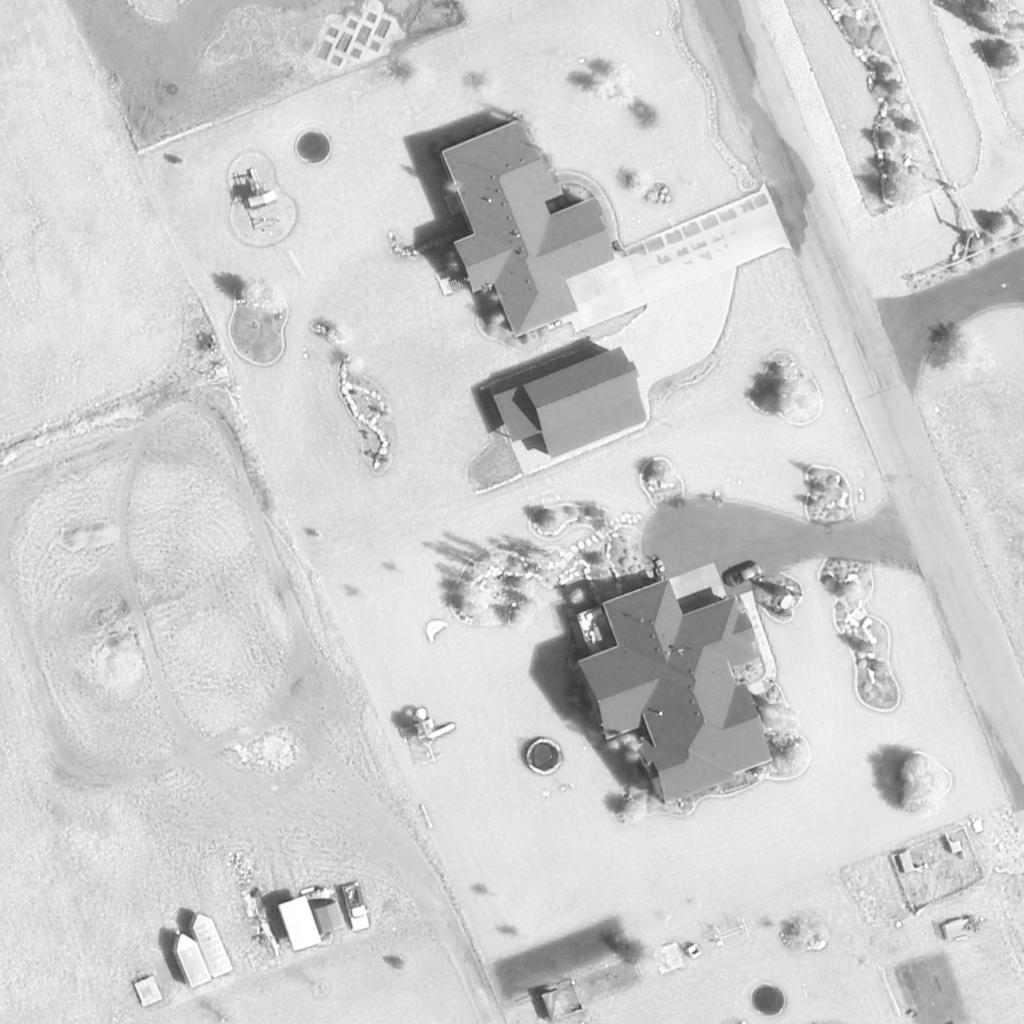vehicle: (188, 908, 234, 978), (169, 930, 213, 986), (339, 882, 369, 932), (724, 562, 764, 588)
